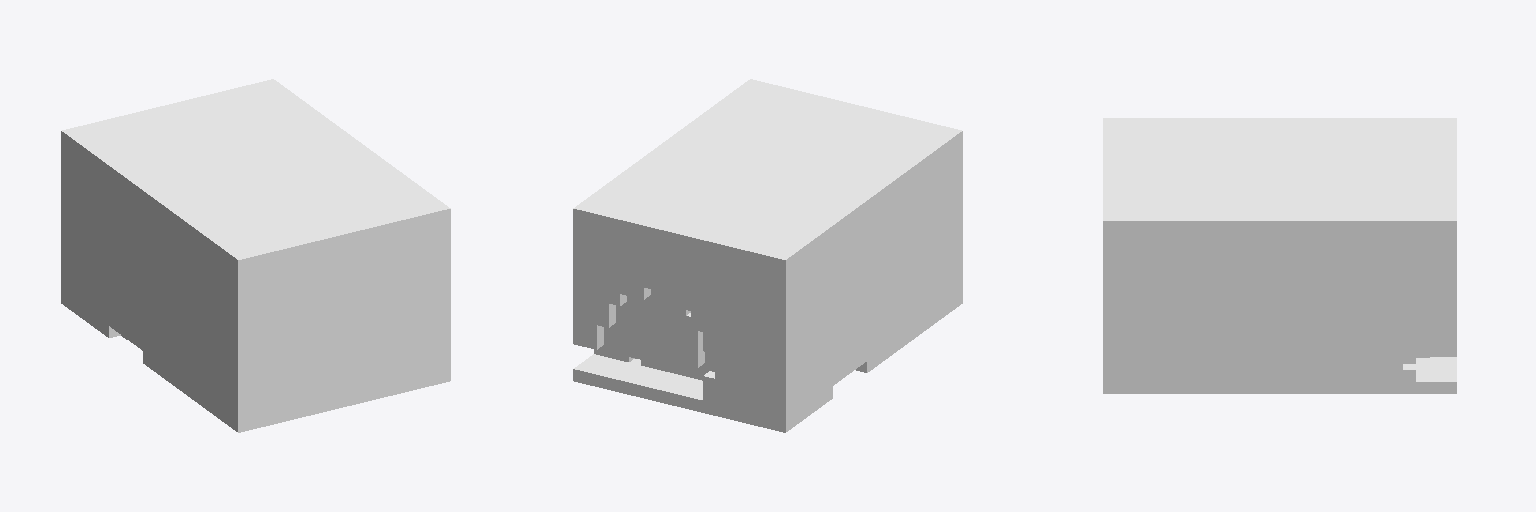
Rendered from mineways.obj.
3 renders of one model, left to right at view 1: azimuth 30°, elevation 25°; view 2: azimuth 150°, elevation 25°; view 3: azimuth 270°, elevation 25°, orthographic.
Parts seen in each view (by area): view 1: mine_rtx__348_15_-313_to_365_28_-288; view 2: mine_rtx__348_15_-313_to_365_28_-288; view 3: mine_rtx__348_15_-313_to_365_28_-288.
Boxes of the visible parts, x1,y1,x2,y2 form: mine_rtx__348_15_-313_to_365_28_-288: [61, 79, 450, 432]; mine_rtx__348_15_-313_to_365_28_-288: [573, 79, 962, 432]; mine_rtx__348_15_-313_to_365_28_-288: [1103, 118, 1456, 393].
Bounding box in the file's own units: 18 × 14 × 26.